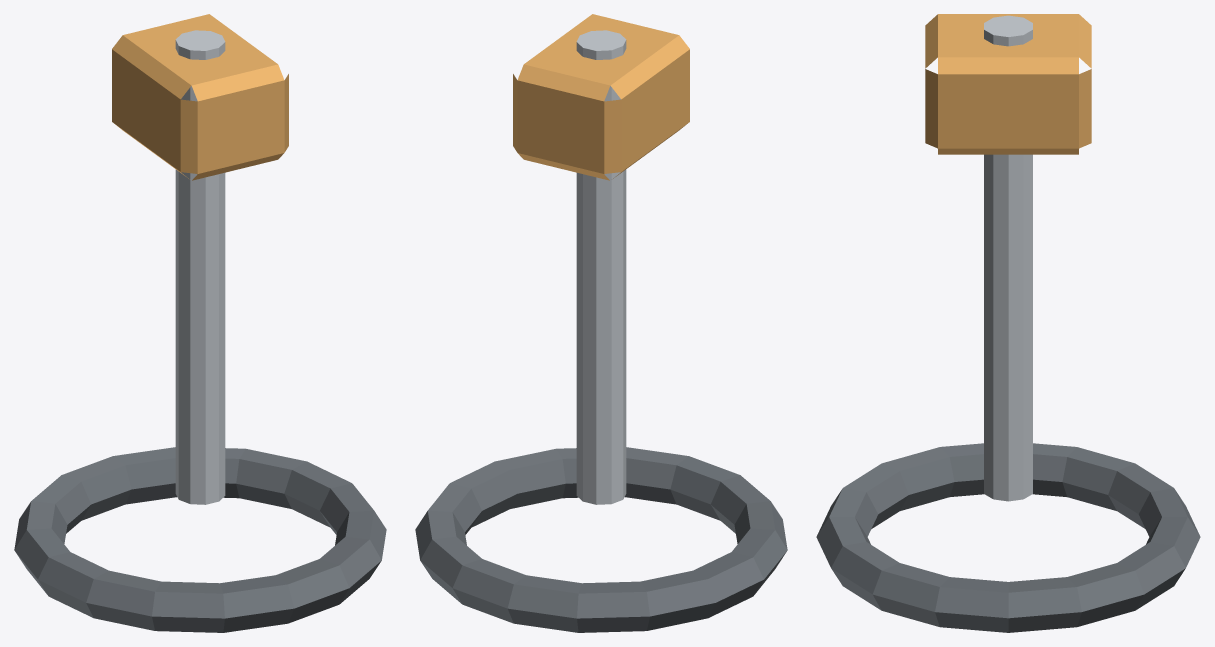
Rendered from detector_wand.glb.
The picture shows the model from 3 angles, left to right: view 1: azimuth 30°, elevation 25°; view 2: azimuth 150°, elevation 25°; view 3: azimuth 270°, elevation 25°; orthographic projection. The views are drawn at different scales.
Parts seen in each view (by area): view 1: ErgonomicGrip, HousingAccent, MetalBody; view 2: ErgonomicGrip, HousingAccent, MetalBody; view 3: ErgonomicGrip, HousingAccent, MetalBody.
Boxes of the visible parts, left/top/right/bottom form: ErgonomicGrip: left=14, top=447, right=386, bottom=632; HousingAccent: left=112, top=14, right=288, bottom=180; MetalBody: left=175, top=30, right=225, bottom=504; ErgonomicGrip: left=415, top=447, right=787, bottom=632; HousingAccent: left=513, top=14, right=689, bottom=180; MetalBody: left=576, top=30, right=626, bottom=504; ErgonomicGrip: left=816, top=443, right=1200, bottom=632; HousingAccent: left=925, top=14, right=1091, bottom=154; MetalBody: left=984, top=15, right=1032, bottom=501.
Size of the model in its own units: 0.3 by 0.4573 by 0.3.
